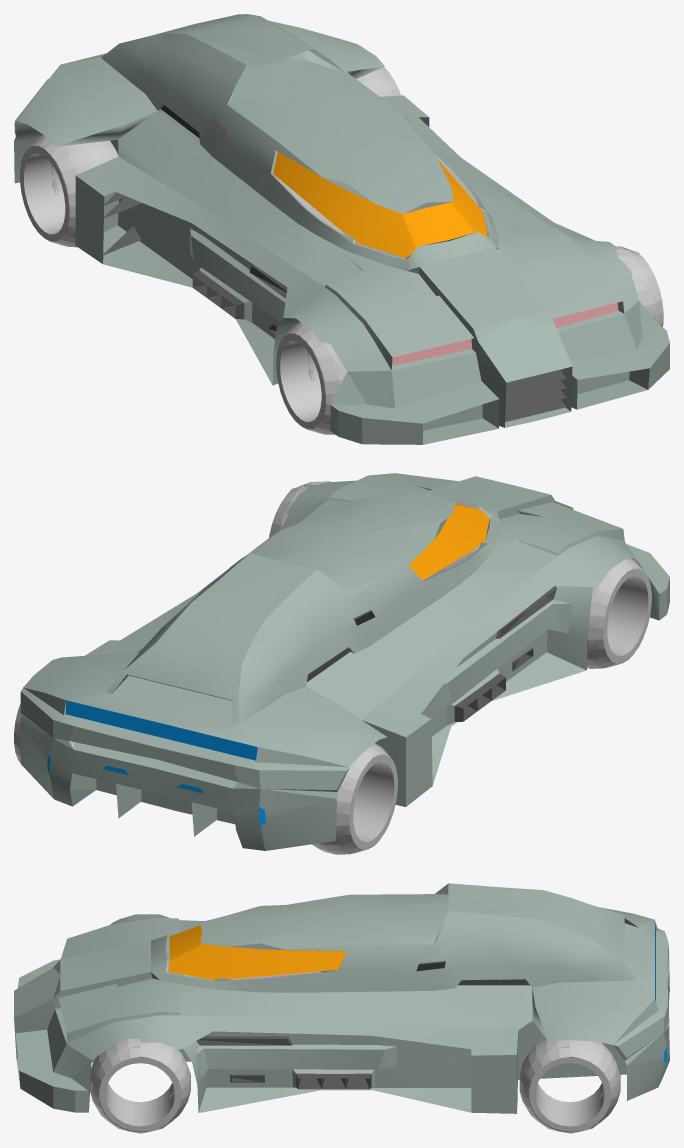
3 views of the same model, one above another, from view 1: azimuth 30°, elevation 25°; view 2: azimuth 150°, elevation 25°; view 3: azimuth 270°, elevation 25° (orthographic). The views are drawn at different scales.
Visible parts, largest first — view 1: gt90_lod0, G_Llanta011, G_Llanta012, G_Llanta010, G_Llanta009; view 2: gt90_lod0, G_Llanta012, G_Llanta011, G_Llanta010; view 3: gt90_lod0, G_Llanta009, G_Llanta010.
Boxes of the visible parts, box(x1,y1,x2,y2) form: gt90_lod0: box(14, 14, 669, 444); G_Llanta011: box(20, 135, 118, 247); G_Llanta012: box(276, 322, 346, 434); G_Llanta010: box(615, 246, 663, 326); G_Llanta009: box(356, 67, 400, 96); gt90_lod0: box(20, 473, 669, 850); G_Llanta012: box(587, 559, 651, 668); G_Llanta011: box(312, 743, 397, 854); G_Llanta010: box(269, 481, 330, 537); gt90_lod0: box(14, 883, 669, 1113); G_Llanta009: box(519, 1039, 620, 1133); G_Llanta010: box(90, 1038, 190, 1133).
Bounding box in the file's own units: 2.26 × 1.3 × 4.49.
